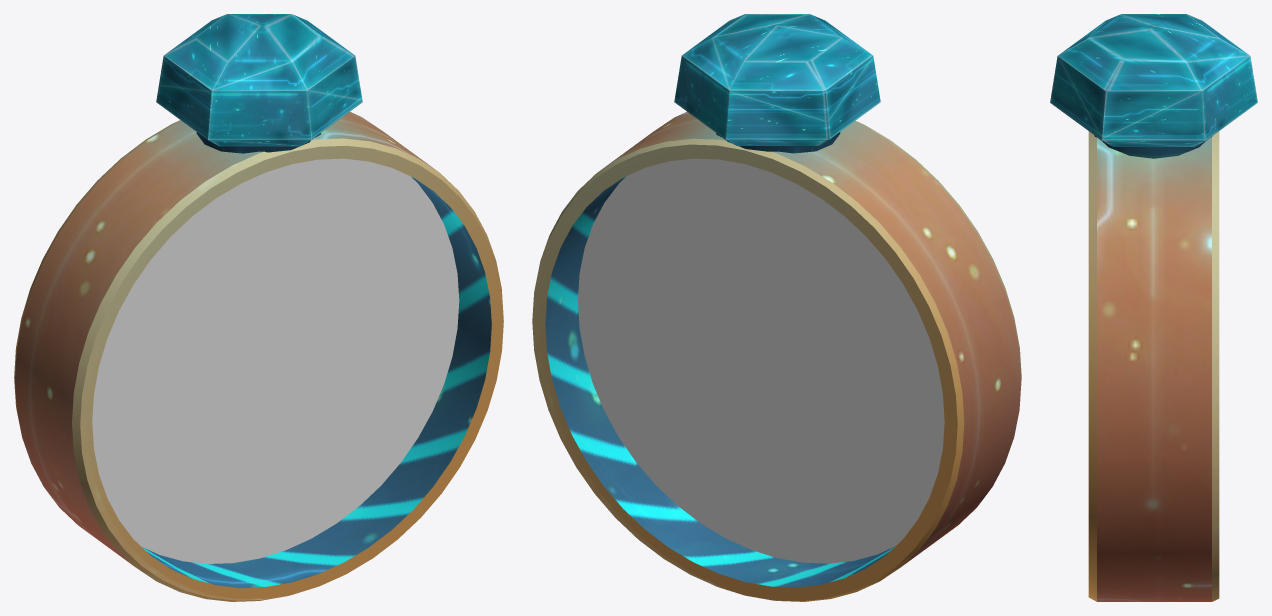
File: ring.FBX
3 renders of one model, left to right at view 1: azimuth 30°, elevation 25°; view 2: azimuth 150°, elevation 25°; view 3: azimuth 270°, elevation 25°, orthographic.
Visible parts, largest first — view 1: cj_plane, ring; view 2: cj_plane, ring; view 3: ring.
Part boxes in pixels (left/top/right/bottom): cj_plane: left=92, top=158, right=459, bottom=563; ring: left=14, top=14, right=503, bottom=601; cj_plane: left=578, top=158, right=944, bottom=563; ring: left=532, top=14, right=1021, bottom=601; ring: left=1050, top=14, right=1257, bottom=601.
Bounding box in the file's own units: 1510 × 1837 × 626.
Materials: 1 (1 with a texture image).
